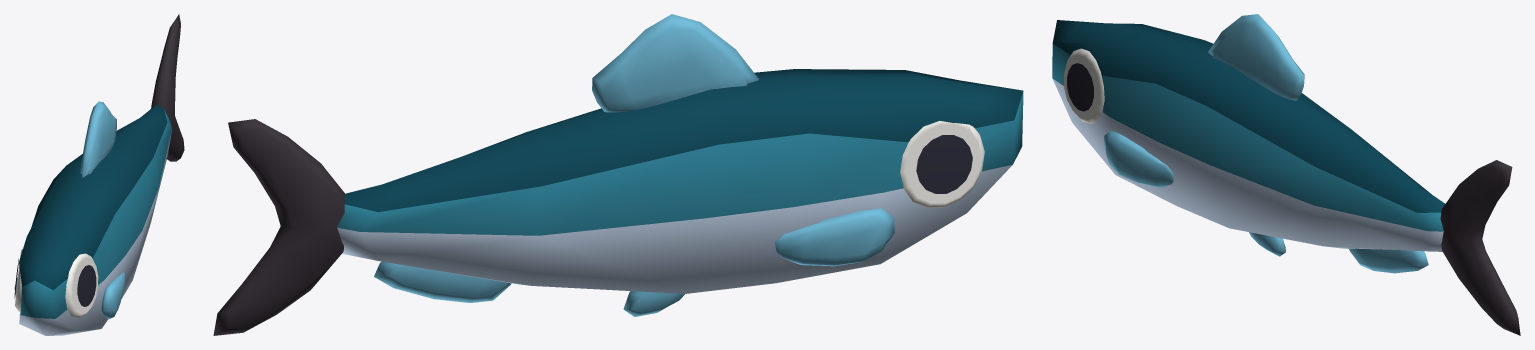
File: Ff-Fish.glb
3 renders of one model, left to right at view 1: azimuth 30°, elevation 25°; view 2: azimuth 150°, elevation 25°; view 3: azimuth 270°, elevation 25°, orthographic. The views are drawn at different scales.
Parts seen in each view (by area): view 1: Herring_LOD1.005; view 2: Herring_LOD1.005; view 3: Herring_LOD1.005.
Part boxes in pixels (x1,y1,x2,y2): Herring_LOD1.005: (14, 14, 184, 335); Herring_LOD1.005: (213, 14, 1023, 335); Herring_LOD1.005: (1052, 14, 1520, 335).
Size of the model in its own units: 0.7891 by 0.4345 by 0.7891.
1 material, 1 textured.
